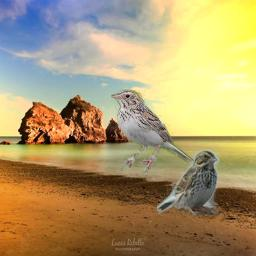Sparrow: (111, 89, 194, 174), (157, 149, 220, 216)
